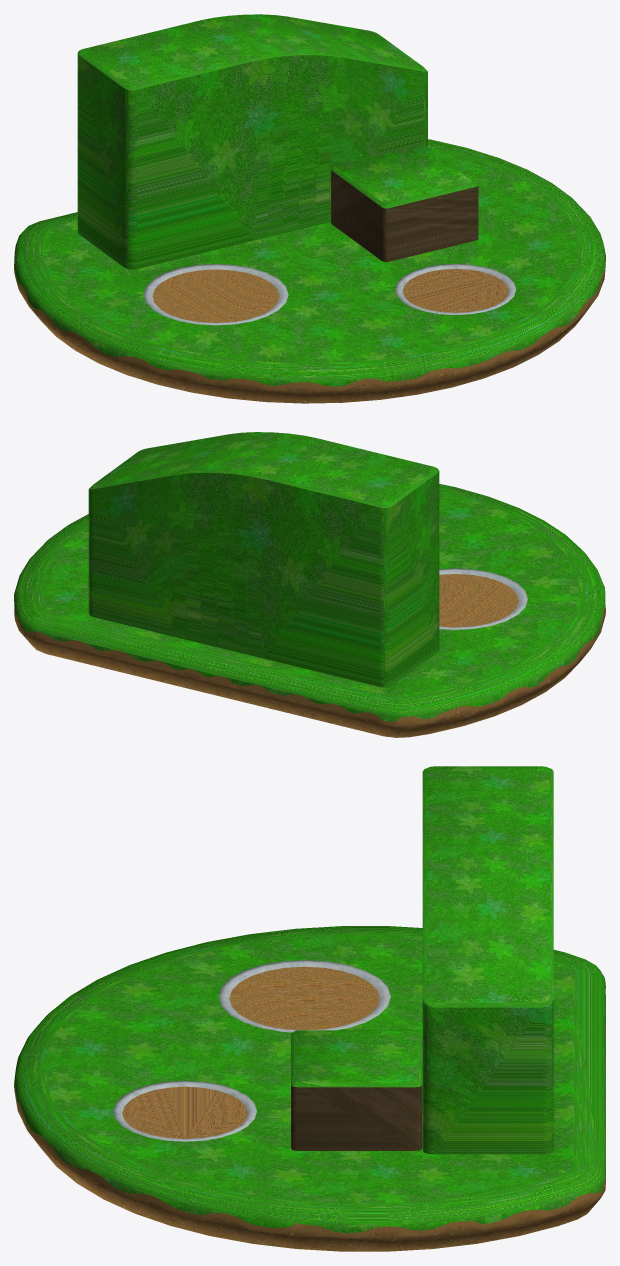
Rendered from HikeGardenKinokoTrampolineTutorialPlanet.obj.
3 renders of one model, top to bottom at view 1: azimuth 30°, elevation 25°; view 2: azimuth 150°, elevation 25°; view 3: azimuth 270°, elevation 25°, orthographic. The views are drawn at different scales.
Parts seen in each view (by area): view 1: Plane.000_Plane.009, Plane.004_Plane.013, Plane.003_Plane.012; view 2: Plane.004_Plane.013, Plane.000_Plane.009, Plane.003_Plane.012; view 3: Plane.000_Plane.009, Plane.004_Plane.013, Plane.003_Plane.012.
Boxes of the visible parts, x1=… form: Plane.000_Plane.009: x1=14, y1=14, x2=605, y2=386; Plane.004_Plane.013: x1=14, y1=54, x2=605, y2=403; Plane.003_Plane.012: x1=143, y1=264, x2=516, y2=325; Plane.004_Plane.013: x1=14, y1=471, x2=605, y2=737; Plane.000_Plane.009: x1=14, y1=432, x2=605, y2=721; Plane.003_Plane.012: x1=439, y1=568, x2=527, y2=629; Plane.000_Plane.009: x1=14, y1=766, x2=605, y2=1232; Plane.004_Plane.013: x1=14, y1=966, x2=605, y2=1251; Plane.003_Plane.012: x1=113, y1=960, x2=390, y2=1141.
Bounding box in the file's own units: 3990 × 1594 × 3363.
